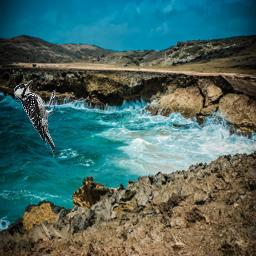Woodpecker: (13, 80, 58, 160)
